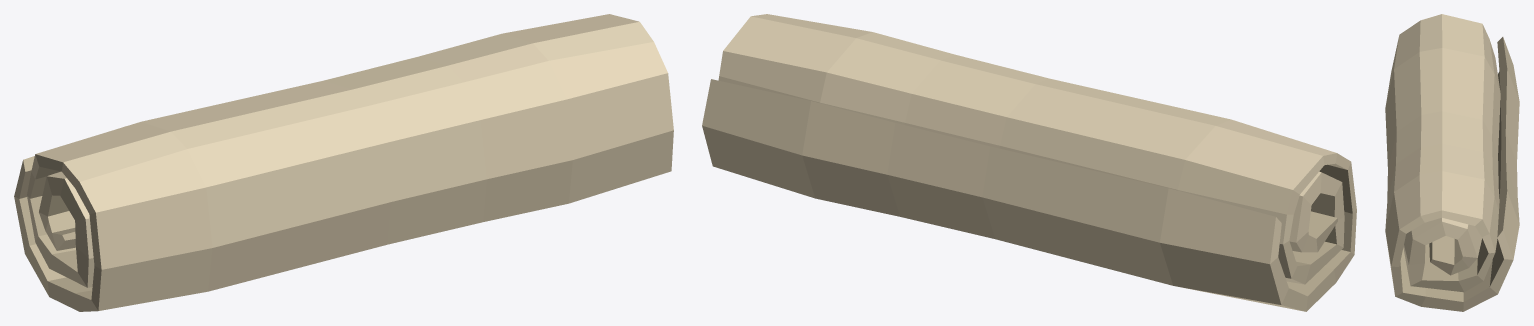
File: Book_Scroll.fbx
The picture shows the model from 3 angles, left to right: view 1: azimuth 30°, elevation 25°; view 2: azimuth 150°, elevation 25°; view 3: azimuth 270°, elevation 25°; orthographic projection. The views are drawn at different scales.
Parts seen in each view (by area): view 1: pCylinder273; view 2: pCylinder273; view 3: pCylinder273.
Boxes of the visible parts, x1,y1,x2,y2 form: pCylinder273: (14, 14, 673, 311); pCylinder273: (702, 14, 1356, 311); pCylinder273: (1385, 14, 1519, 311).
Bounding box in the file's own units: 35.61 × 8.91 × 10.
